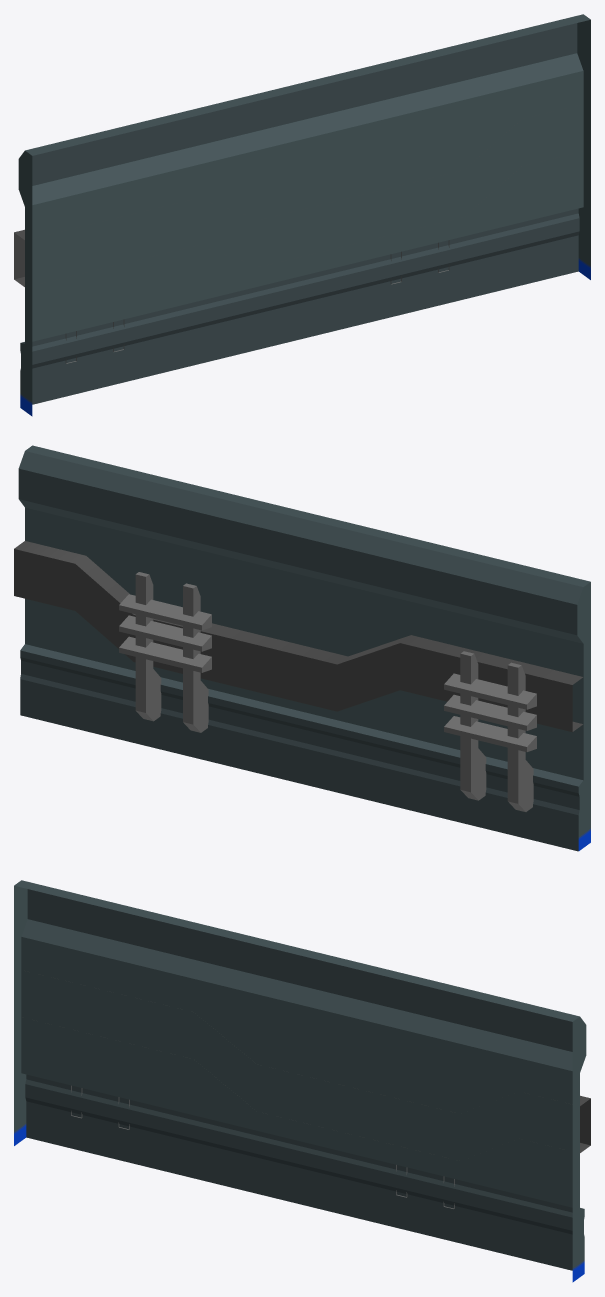
The model's file is SM_wall_front_02.fbx.
The picture shows the model from 3 angles, top to bottom: view 1: azimuth 30°, elevation 25°; view 2: azimuth 150°, elevation 25°; view 3: azimuth 330°, elevation 25°; orthographic projection.
Parts seen in each view (by area): view 1: SM_wall_front_02; view 2: SM_wall_front_02; view 3: SM_wall_front_02.
Boxes of the visible parts, box(x1,y1,x2,y2) form: SM_wall_front_02: box(14, 14, 590, 416); SM_wall_front_02: box(14, 445, 590, 851); SM_wall_front_02: box(14, 880, 590, 1282).
Size of the model in its own units: 300 by 134 by 29.58.
Materials: 1 (1 with a texture image).
